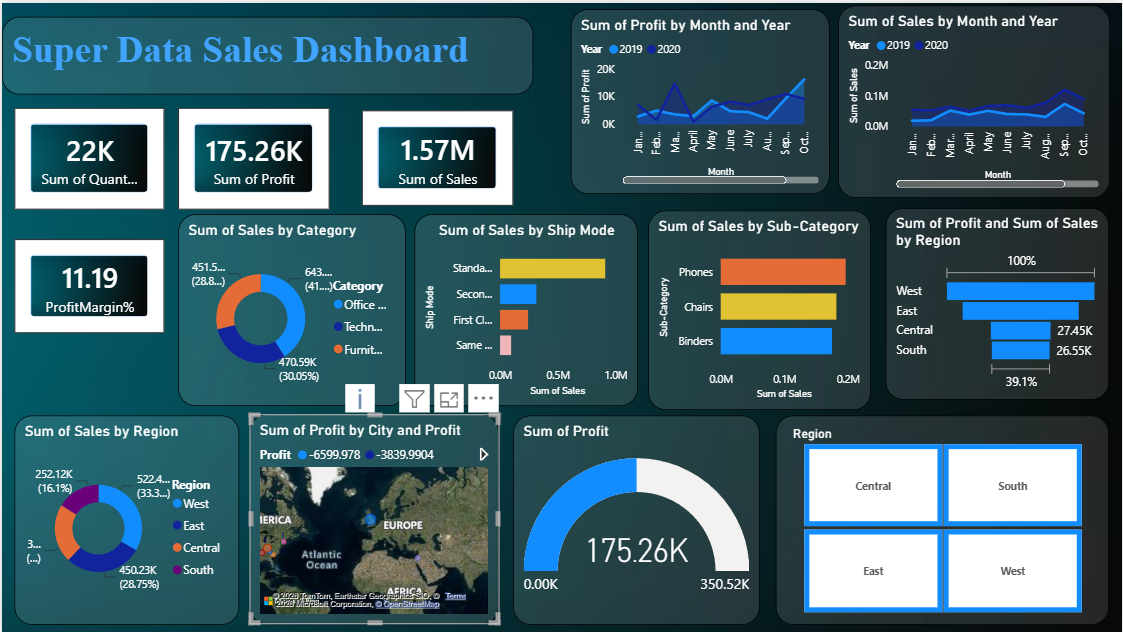

The page's visual inventory and layout, read from the dashboard file:
{"tool":"powerbi","page":{"name":"Page 1","canvas":[1280,720],"ordinal":0},"visuals":[{"type":"barChart","fields":{"Y":["Sum(Sheet1.Sales)"],"Category":["Sheet1.Ship Mode"]},"box":[470.7,241.6,255.5,219.4],"z":0},{"type":"donutChart","fields":{"Category":["Sheet1.Region"],"Y":["Sum(Sheet1.Sales)"]},"box":[13.9,470.7,256.9,238.8],"z":1000},{"type":"barChart","fields":{"Y":["Sum(Sheet1.Sales)"],"Category":["Sheet1.Sub-Category"]},"box":[738.7,237.4,254.1,227.7],"z":2000},{"type":"areaChart","fields":{"Y":["Sum(Sheet1.Sales)"],"Category":["Sheet1.Order Date.Variation.Date Hierarchy.Month","Sheet1.Order Date.Variation.Date Hierarchy.Day"],"Series":["Sheet1.Order Date.Variation.Date Hierarchy.Year"]},"box":[955.7,2.9,310,220],"z":3000},{"type":"map","fields":{"Series":["Sheet1.Profit"],"Category":["Sheet1.City"],"Size":["Sum(Sheet1.Profit)"]},"box":[283.3,469.3,284.7,240.2],"z":4000},{"type":"areaChart","fields":{"Category":["Sheet1.Order Date.Variation.Date Hierarchy.Month","Sheet1.Order Date.Variation.Date Hierarchy.Day"],"Series":["Sheet1.Order Date.Variation.Date Hierarchy.Year"],"Y":["Sum(Sheet1.Profit)"]},"box":[650,7.1,295.7,211.4],"z":5000},{"type":"cardVisual","fields":{"Data":["Sum(Sheet1.Sales)"]},"box":[411.7,123.5,172.9,108.4],"z":6000},{"type":"cardVisual","fields":{"Data":["Sum(Sheet1.Quantity)"]},"box":[14.3,120,171.4,115.7],"z":7000},{"type":"cardVisual","fields":{"Data":["Sum(Sheet1.Profit)"]},"box":[201.4,120,172.9,115.7],"z":8000},{"type":"donutChart","fields":{"Category":["Sheet1.Category"],"Y":["Sum(Sheet1.Sales)"]},"box":[201.3,241.6,259.7,219.4],"z":9000},{"type":"gauge","fields":{"Y":["Sum(Sheet1.Profit)"]},"box":[584.6,470.7,281.9,238.8],"z":10000},{"type":"funnel","fields":{"Category":["Sheet1.Region"],"Y":["Sum(Sheet1.Profit)"]},"box":[1009.5,234.7,255.5,219.4],"z":11000},{"type":"cardVisual","fields":{"Data":["Sheet1.ProfitMargin%"]},"box":[13.7,270.3,171.5,107],"z":13000},{"type":"textbox","box":[0,15.7,607.1,88.6],"z":14000},{"type":"slicer","fields":{"Values":["Sheet1.Region"]},"box":[884.5,470.7,380.5,238.8],"z":15000}]}

Visuals, with their boxes in screenshot pixels (x1, y1, x2, y2), scaled from the page's 1280x720 canvas onto the 1123x632 screenshot:
barChart - Sum(Sheet1.Sales) x Sheet1.Ship Mode: box=[413, 212, 637, 405]
donutChart - Sheet1.Region x Sum(Sheet1.Sales): box=[12, 413, 238, 623]
barChart - Sum(Sheet1.Sales) x Sheet1.Sub-Category: box=[648, 208, 871, 408]
areaChart - Sum(Sheet1.Sales) x Sheet1.Order Date.Variation.Date Hierarchy.Month: box=[838, 3, 1110, 196]
map - Sheet1.Profit x Sheet1.City: box=[249, 412, 498, 623]
areaChart - Sheet1.Order Date.Variation.Date Hierarchy.Month x Sheet1.Order Date.Variation.Date Hierarchy.Day: box=[570, 6, 830, 192]
cardVisual - Sum(Sheet1.Sales): box=[361, 108, 513, 204]
cardVisual - Sum(Sheet1.Quantity): box=[13, 105, 163, 207]
cardVisual - Sum(Sheet1.Profit): box=[177, 105, 328, 207]
donutChart - Sheet1.Category x Sum(Sheet1.Sales): box=[177, 212, 404, 405]
gauge - Sum(Sheet1.Profit): box=[513, 413, 760, 623]
funnel - Sheet1.Region x Sum(Sheet1.Profit): box=[886, 206, 1110, 399]
cardVisual - Sheet1.ProfitMargin%: box=[12, 237, 162, 331]
textbox: box=[0, 14, 533, 92]
slicer - Sheet1.Region: box=[776, 413, 1110, 623]
